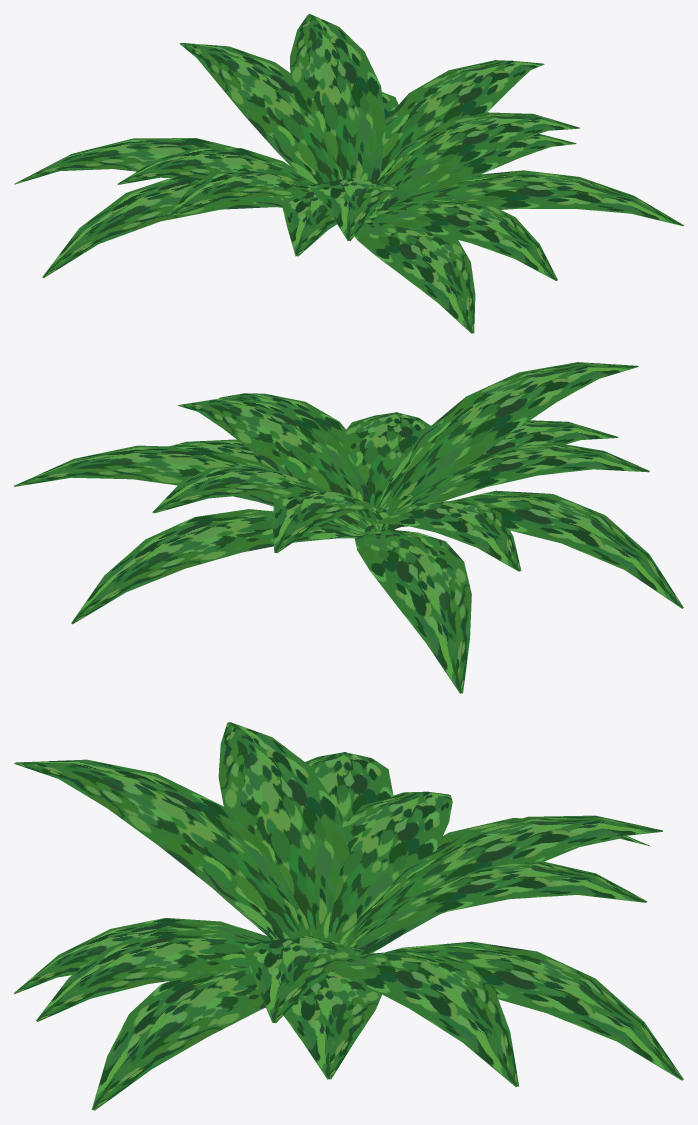
The model's file is nat_wild_fern.glb.
The picture shows the model from 3 angles, top to bottom: view 1: azimuth 30°, elevation 25°; view 2: azimuth 150°, elevation 25°; view 3: azimuth 270°, elevation 25°; orthographic projection. The views are drawn at different scales.
Parts seen in each view (by area): view 1: foliage; view 2: foliage; view 3: foliage.
Boxes of the visible parts, x1,y1,x2,y2 form: foliage: (14,14,683,333); foliage: (14,362,683,693); foliage: (14,722,683,1110).
Bounding box in the file's own units: 2.28 × 0.5102 × 1.84.
1 material, 1 textured.
